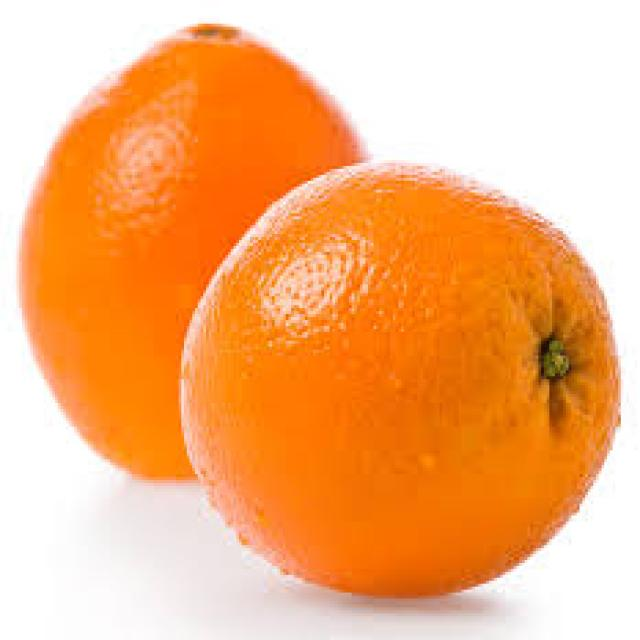orange: (182, 144, 617, 607)
